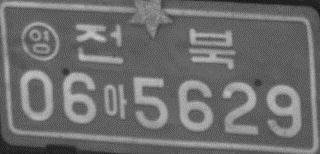0: (19, 69, 55, 122)
2: (222, 80, 259, 134)
5: (132, 76, 169, 130)
6: (60, 72, 97, 124), (178, 78, 212, 132)
9: (265, 84, 302, 139)
아: (103, 84, 127, 120)
영: (19, 20, 60, 62)
전북_D: (74, 23, 236, 70)
